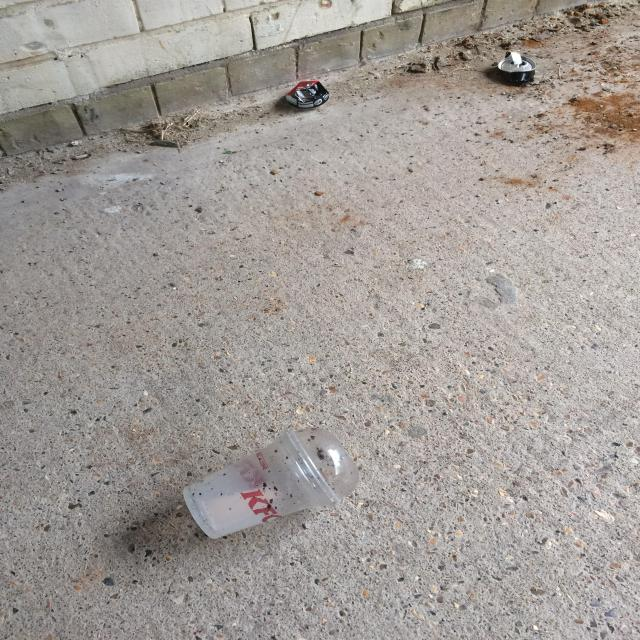litter: (171, 424, 363, 541), (263, 71, 340, 116), (491, 49, 538, 79)
